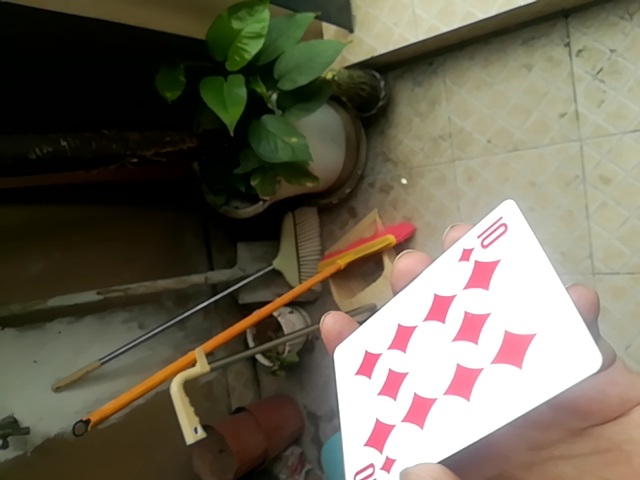fk 10: (326, 203, 617, 477)
